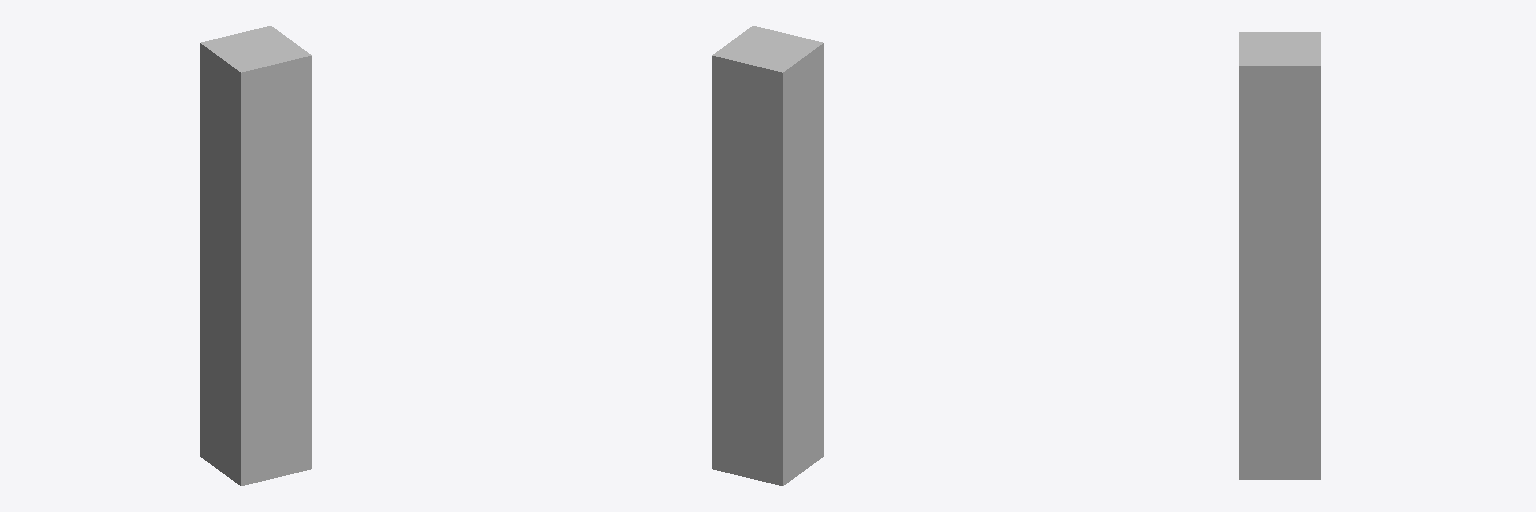
File: Cub3.obj
3 views of the same model, side by side, from view 1: azimuth 30°, elevation 25°; view 2: azimuth 150°, elevation 25°; view 3: azimuth 270°, elevation 25° (orthographic).
Parts seen in each view (by area): view 1: Cube_Cube.001; view 2: Cube_Cube.001; view 3: Cube_Cube.001.
Boxes of the visible parts, x1,y1,x2,y2 form: Cube_Cube.001: [200, 26, 311, 485]; Cube_Cube.001: [712, 26, 823, 485]; Cube_Cube.001: [1239, 32, 1320, 479].
Size of the model in its own units: 0.9255 by 5.16 by 0.9255.